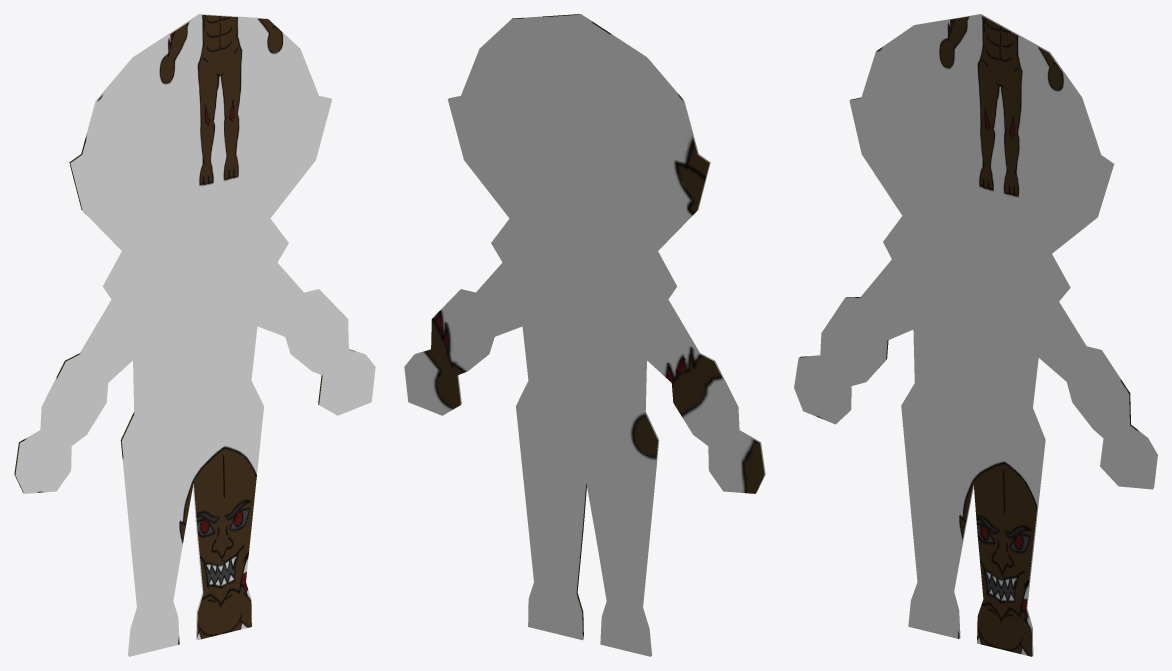
File: MutantC.2.fbx
3 renders of one model, left to right at view 1: azimuth 30°, elevation 25°; view 2: azimuth 150°, elevation 25°; view 3: azimuth 330°, elevation 25°, orthographic.
Parts seen in each view (by area): view 1: Plane, Plane.001; view 2: Plane.001, Plane; view 3: Plane, Plane.001.
Boxes of the visible parts, x1,y1,x2,y2 form: Plane: (15,14,375,656); Plane.001: (14,14,364,655); Plane.001: (404,14,764,656); Plane: (415,14,765,655); Plane: (794,15,1156,656); Plane.001: (799,14,1157,655).
Bounding box in the file's own units: 1.78 × 2.95 × 0.00918.
